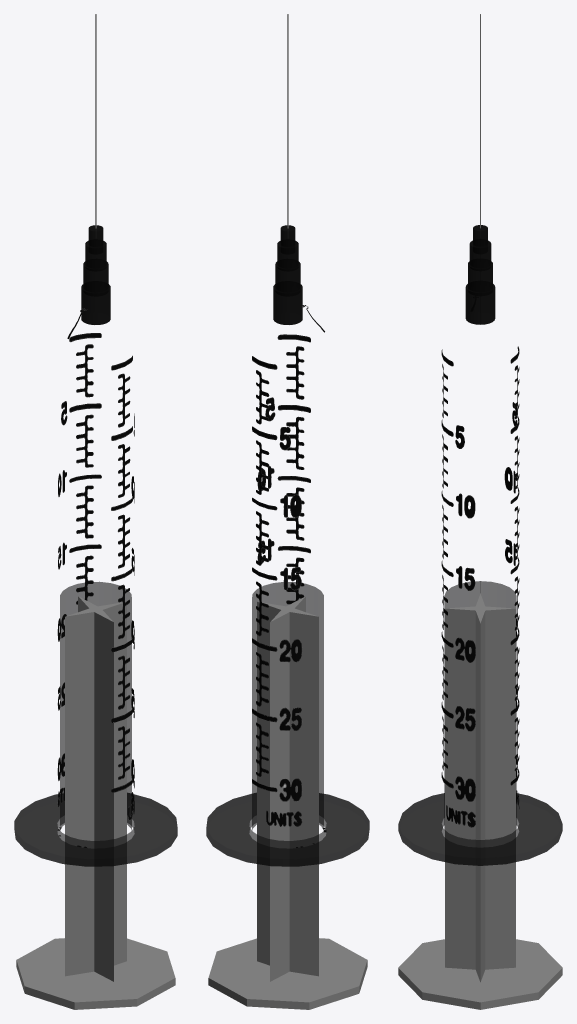
The model's file is Syringe.fbx.
The picture shows the model from 3 angles, left to right: view 1: azimuth 30°, elevation 25°; view 2: azimuth 150°, elevation 25°; view 3: azimuth 270°, elevation 25°; orthographic projection.
Parts seen in each view (by area): view 1: pCylinder19, pCylinder13, pCylinder20, pCylinder14, pCylinder15, pCylinder16, pCylinder18, pCylinder17; view 2: pCylinder19, pCylinder13, pCylinder20, pCylinder14, pCylinder15, pCylinder16, pCylinder18, pCylinder17; view 3: pCylinder19, pCylinder13, pCylinder20, pCylinder14, pCylinder15, pCylinder16, pCylinder17.
Boxes of the visible parts, left/top/right/bottom form: pCylinder19: left=65, top=596, right=126, bottom=981; pCylinder13: left=14, top=308, right=177, bottom=866; pCylinder20: left=16, top=938, right=175, bottom=1009; pCylinder14: left=81, top=282, right=110, bottom=324; pCylinder15: left=83, top=260, right=108, bottom=295; pCylinder16: left=85, top=240, right=106, bottom=270; pCylinder18: left=95, top=14, right=96, bottom=228; pCylinder17: left=88, top=225, right=103, bottom=253; pCylinder19: left=257, top=596, right=318, bottom=981; pCylinder13: left=206, top=305, right=369, bottom=866; pCylinder20: left=208, top=938, right=367, bottom=1009; pCylinder14: left=273, top=282, right=302, bottom=324; pCylinder15: left=275, top=260, right=300, bottom=295; pCylinder16: left=277, top=240, right=298, bottom=270; pCylinder18: left=287, top=14, right=288, bottom=228; pCylinder17: left=280, top=225, right=295, bottom=253; pCylinder19: left=445, top=593, right=515, bottom=982; pCylinder13: left=398, top=346, right=562, bottom=865; pCylinder20: left=398, top=939, right=562, bottom=1009; pCylinder14: left=465, top=282, right=495, bottom=324; pCylinder15: left=468, top=260, right=492, bottom=295; pCylinder16: left=469, top=240, right=491, bottom=270; pCylinder17: left=473, top=225, right=487, bottom=253.
Bounding box in the file's own units: 0.9554 × 6.16 × 0.9554.
Materials: 4 (1 with a texture image).
